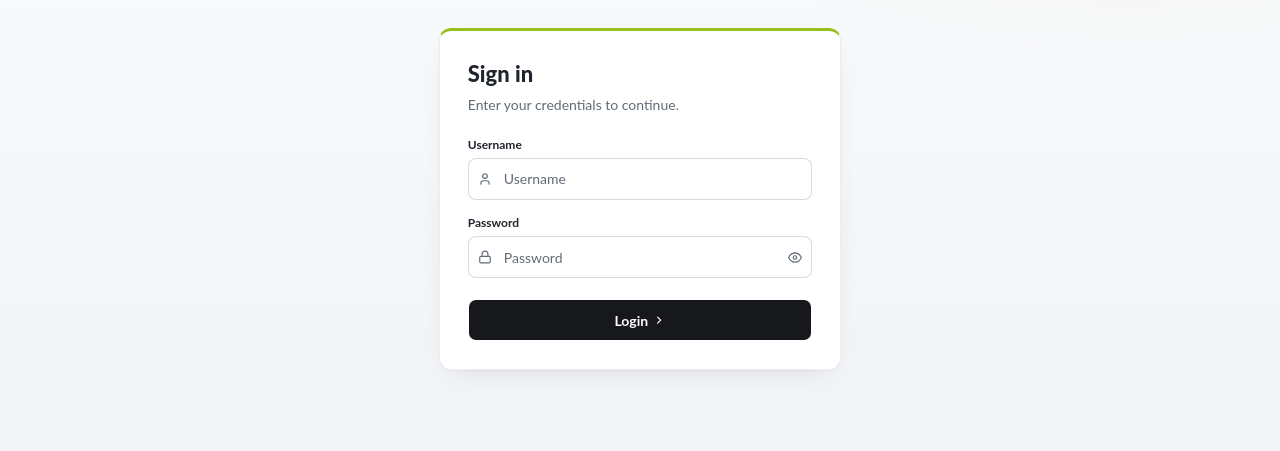
Test case: LoginPage › shows an error banner and keeps the username on invalid credentials
This screenshot has width=1280, height=451.
Type "rebecka" into the field labelled "Username". click: x=640, y=179
box: [468,158,812,200]
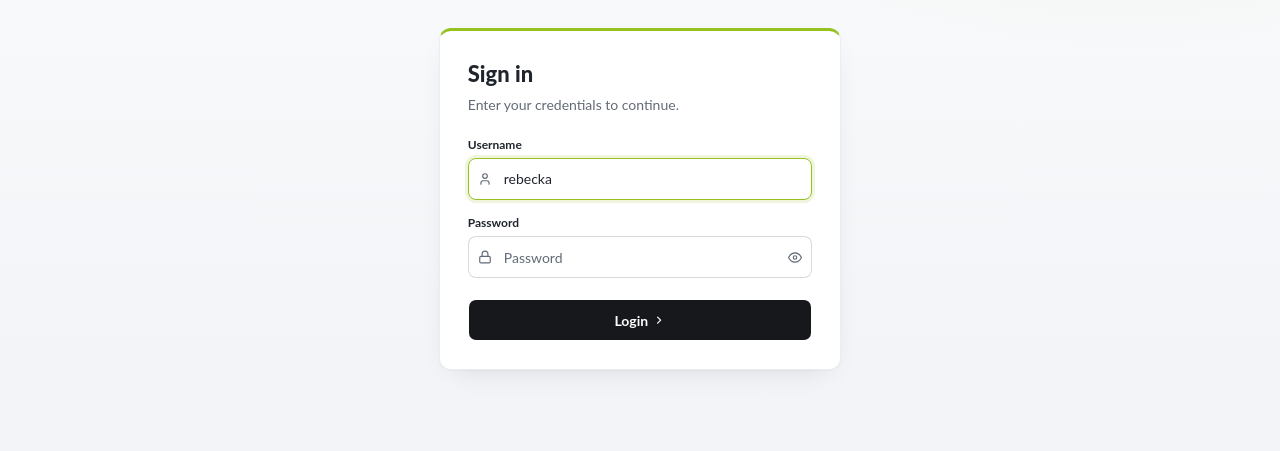
Type "wrong" into the password field labelled "Password". click: x=640, y=257
box: [468,236,812,278]
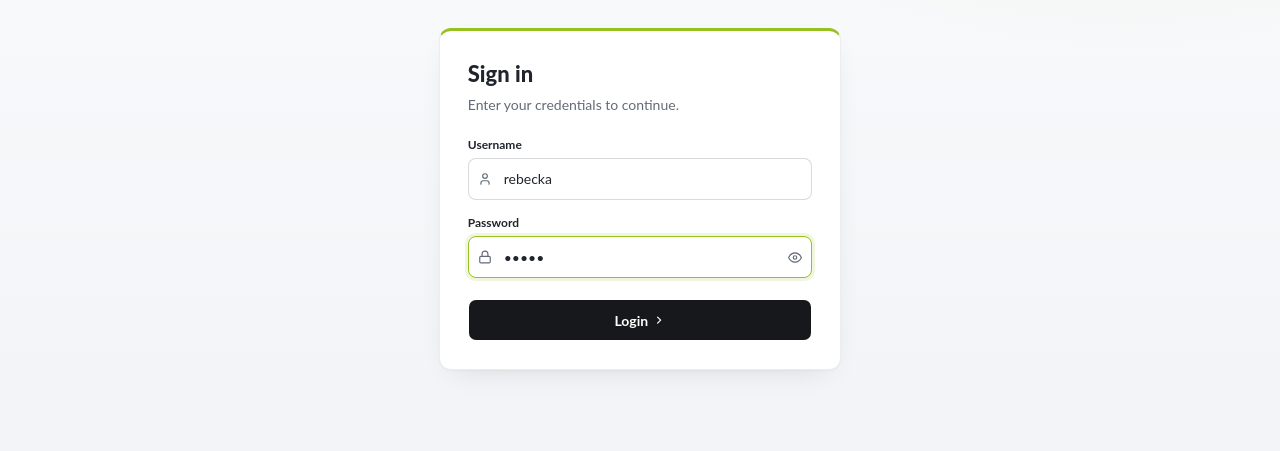
Click the button "Login". click: x=640, y=320
box: [468,299,812,341]
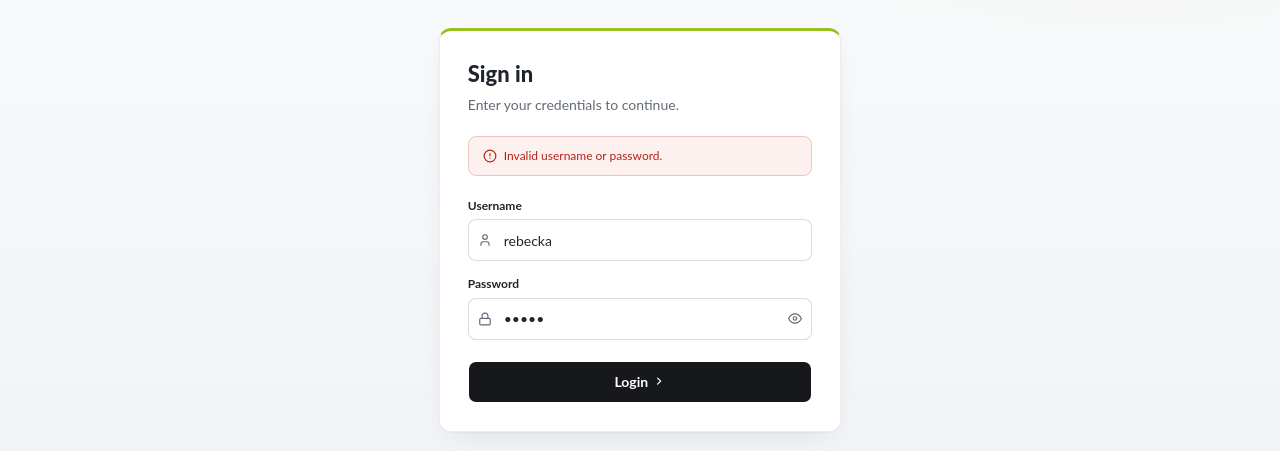
Now the text "Invalid username or password." is shown, box [504,147,662,164]
